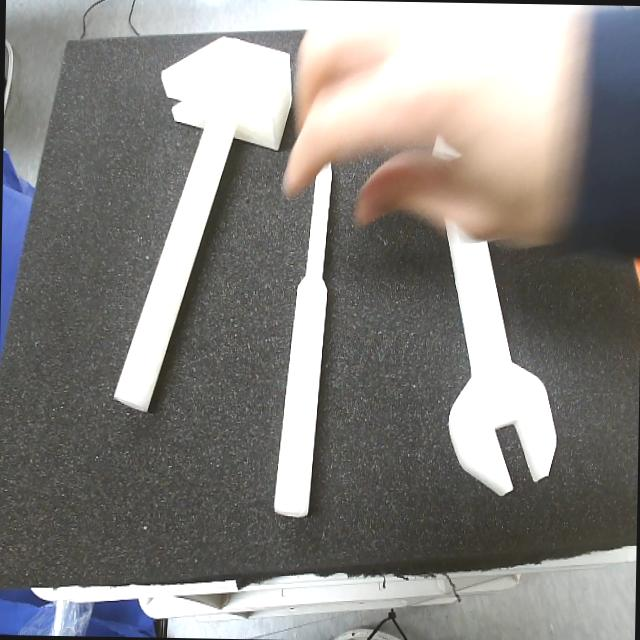Hammer: (113, 37, 292, 416)
